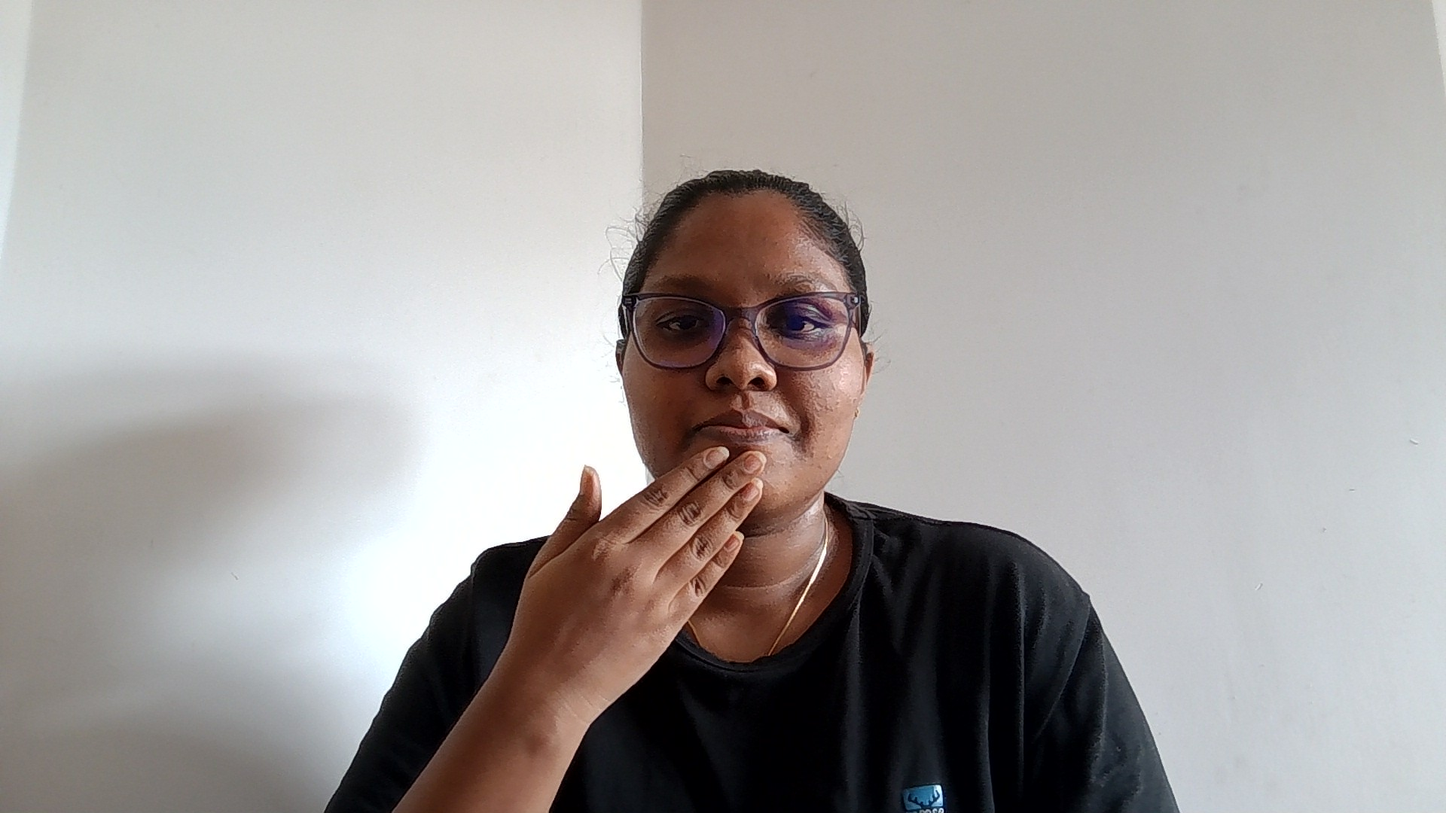Thank You: (441, 429, 834, 809)
